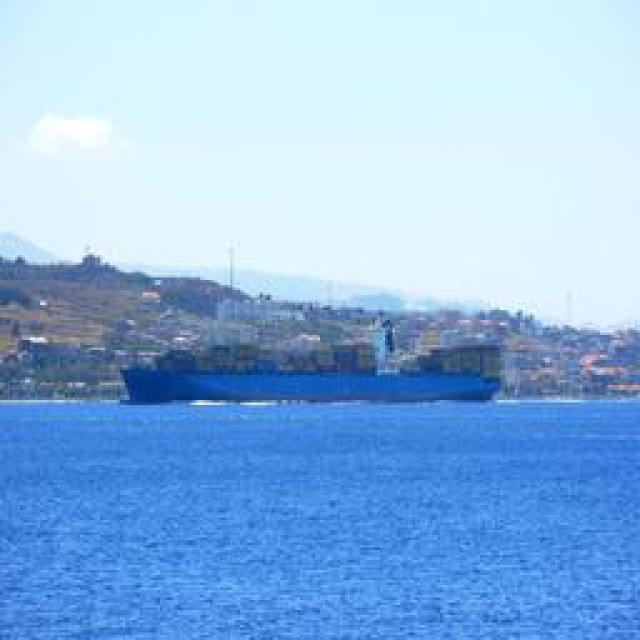CIV_Ship: (122, 356, 496, 406)
